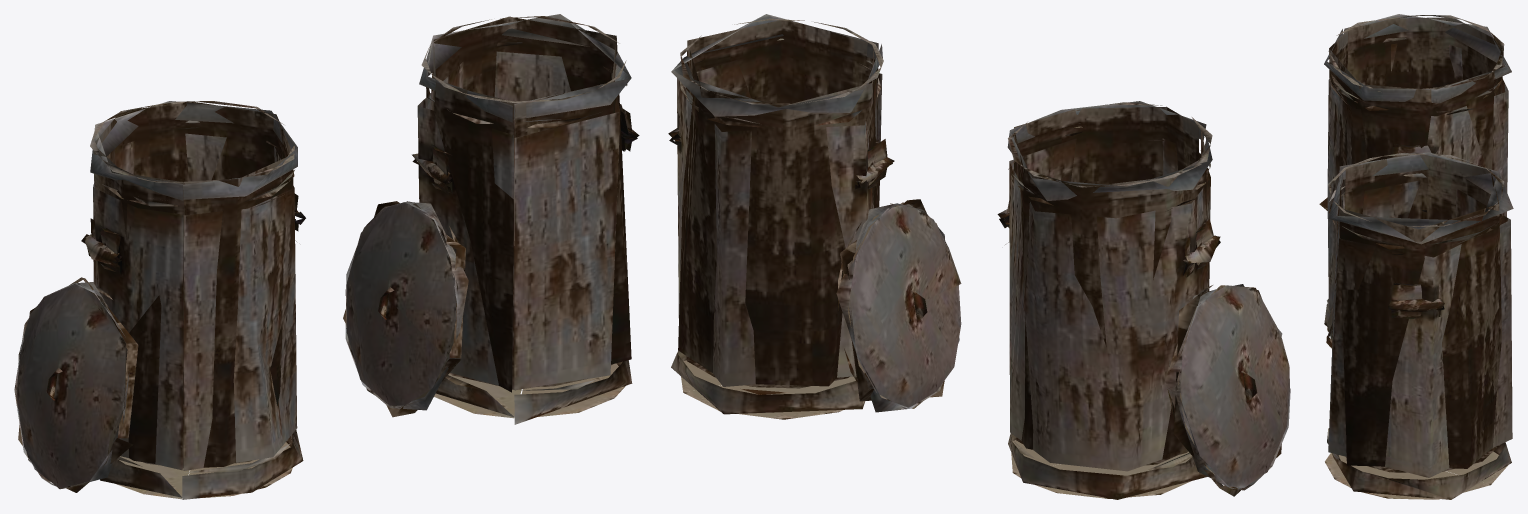
The model's file is prop_trashcan.glb.
3 renders of one model, left to right at view 1: azimuth 30°, elevation 25°; view 2: azimuth 150°, elevation 25°; view 3: azimuth 270°, elevation 25°, orthographic. The views are drawn at different scales.
Parts seen in each view (by area): view 1: prop_trashcan; view 2: prop_trashcan; view 3: prop_trashcan.
Part boxes in pixels (left/top/right/bottom): prop_trashcan: left=14, top=14, right=639, bottom=499; prop_trashcan: left=668, top=14, right=1290, bottom=499; prop_trashcan: left=1319, top=14, right=1513, bottom=499.
Size of the model in its own units: 1.64 by 0.8511 by 0.5514.
Materials: 1 (1 with a texture image).
